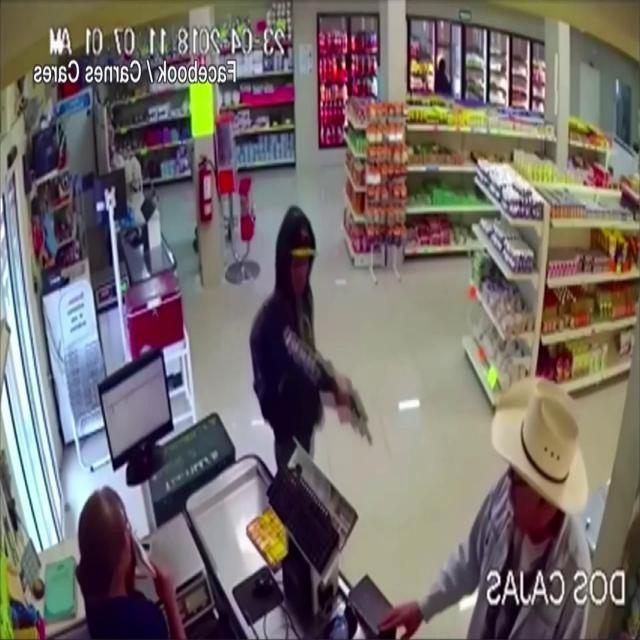weapon: (339, 386, 375, 446)
